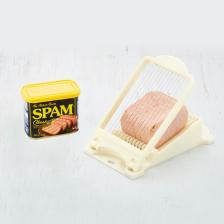spam: (21, 79, 81, 140)
